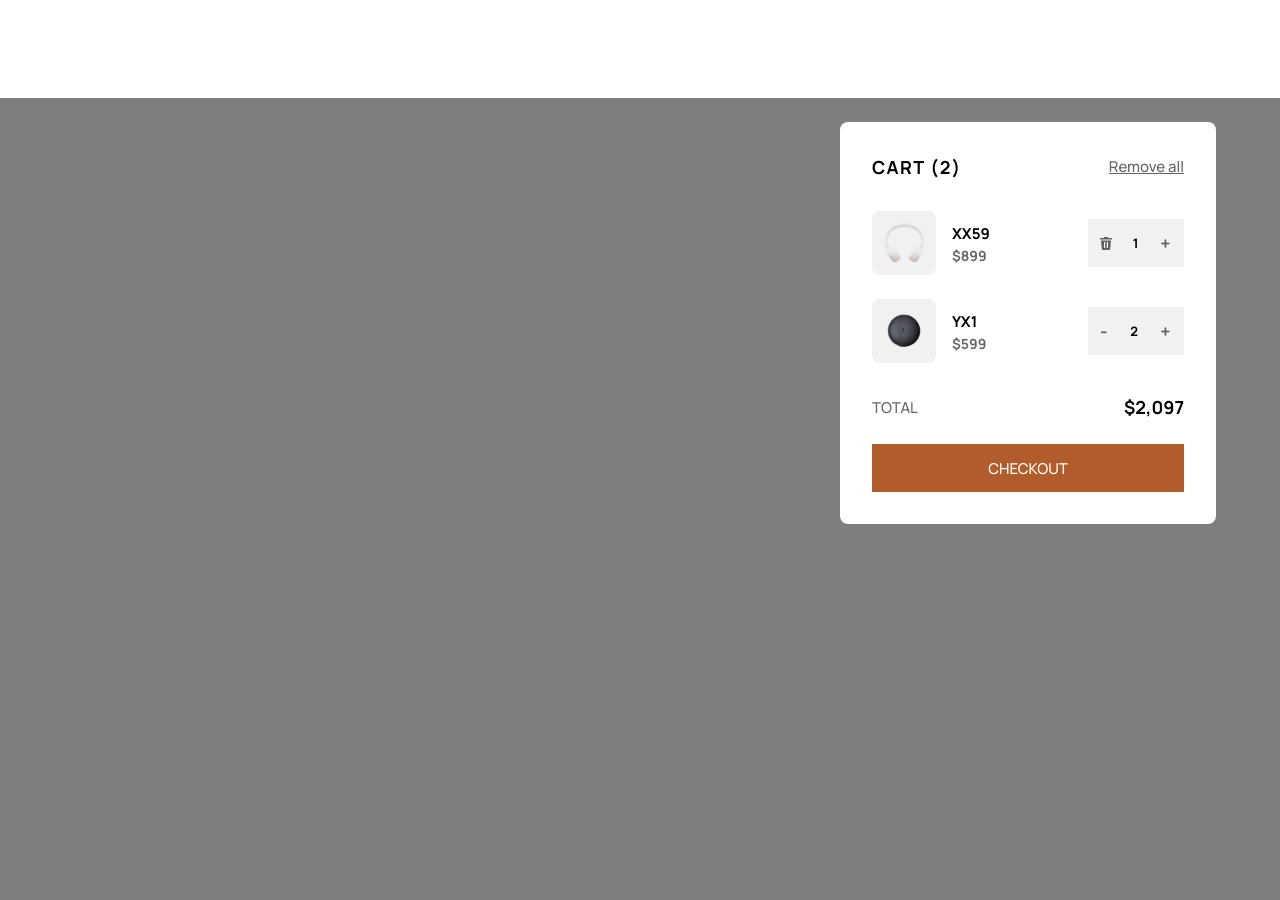
Scenario: Cart › removes a product at quantity 1, and Undo puts it back where it was
What coordinates should you click on to do the following:
click the button named "Remove XX59"
I would click on:
 (1106, 243)
Its box is [1090, 226, 1122, 260].
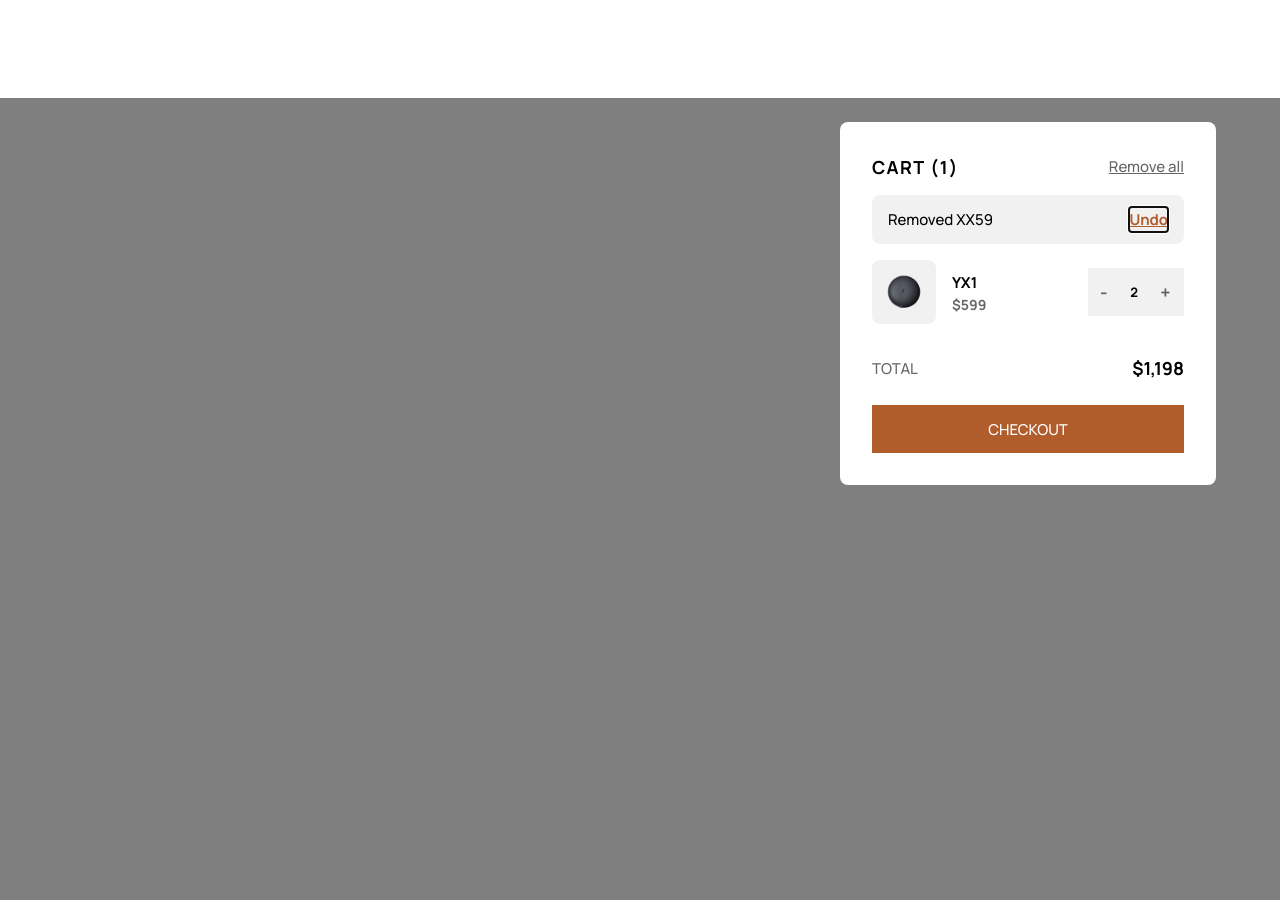
Check: the heading "Cart (1)" is shown, box [872, 154, 959, 178]
Check: the text "Removed XX59" is shown, box [888, 207, 993, 232]
What coordinates should you click on to do the following:
click the button "Undo"
I would click on:
 (1149, 220)
Its box is [1129, 207, 1168, 232].
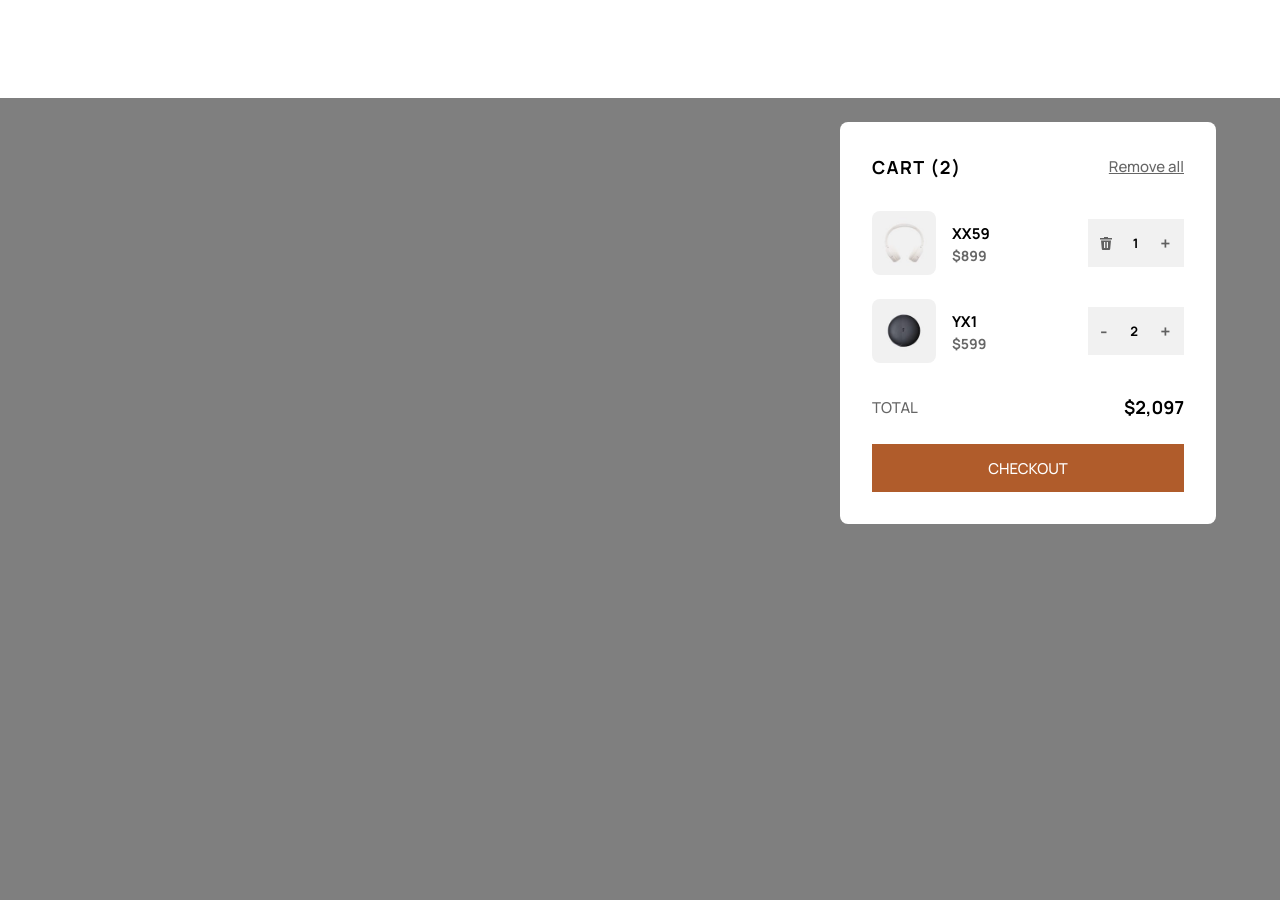
Check: the text "Removed XX59" is gone
